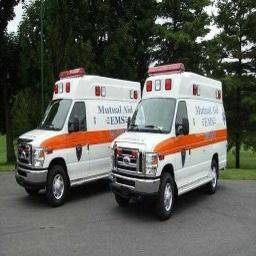Ambulance: (111, 63, 226, 218), (15, 68, 140, 205)
